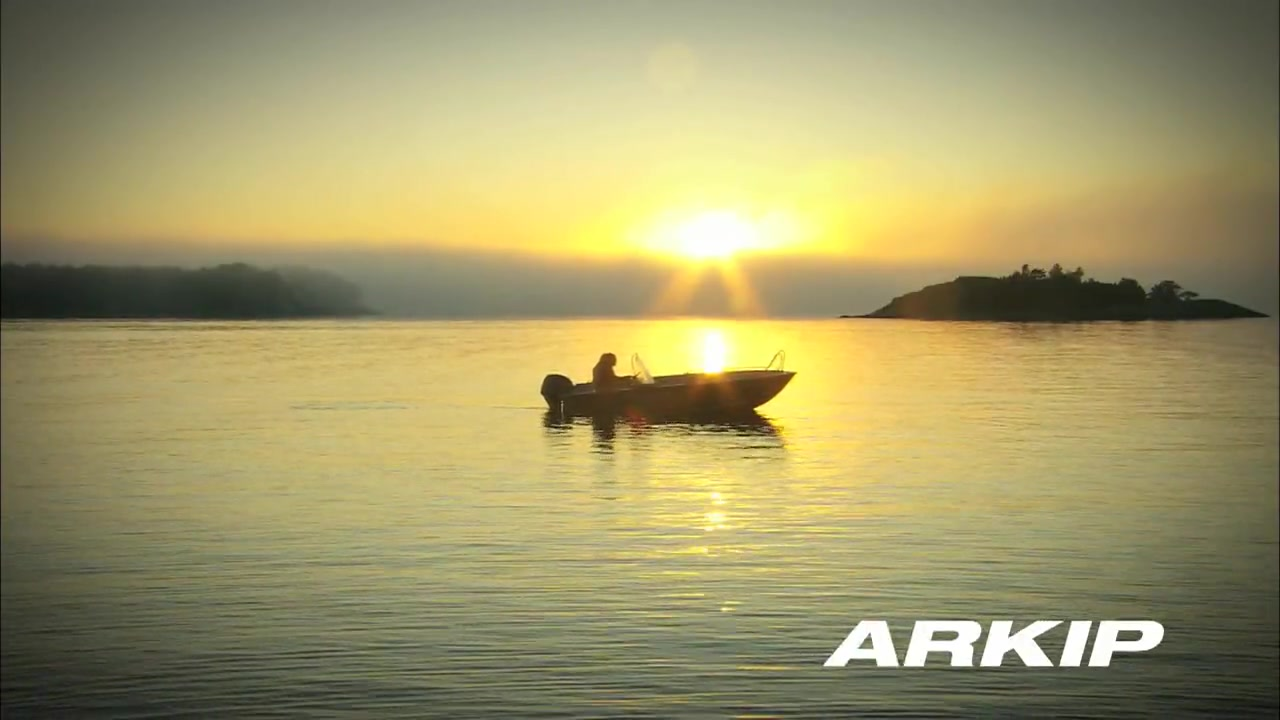boat: (541, 350, 803, 425)
